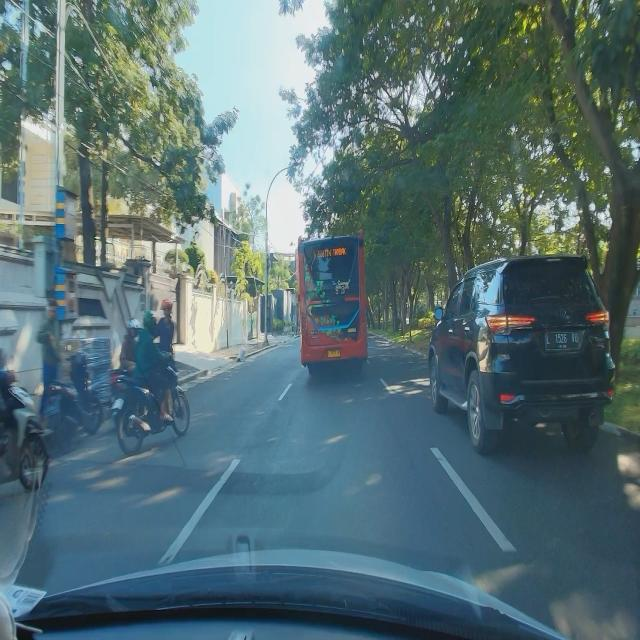bus: (297, 228, 369, 374)
car: (427, 252, 618, 458)
license-plate: (545, 331, 580, 351), (328, 350, 340, 358)
